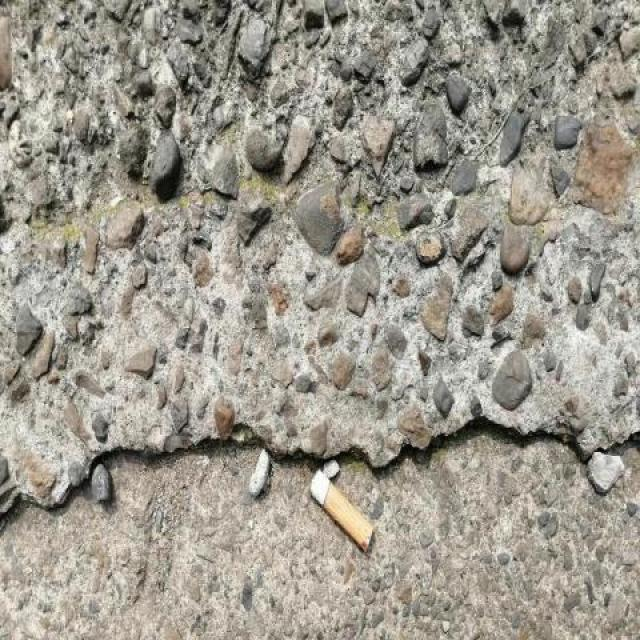non-organic waste: (303, 464, 377, 556)
